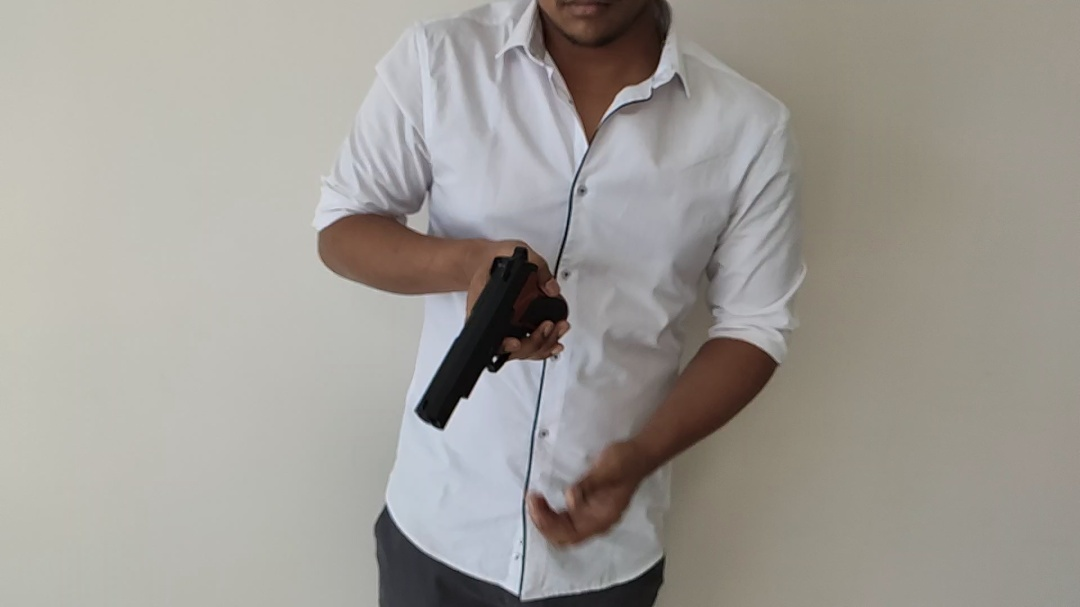gun: (413, 246, 570, 431)
